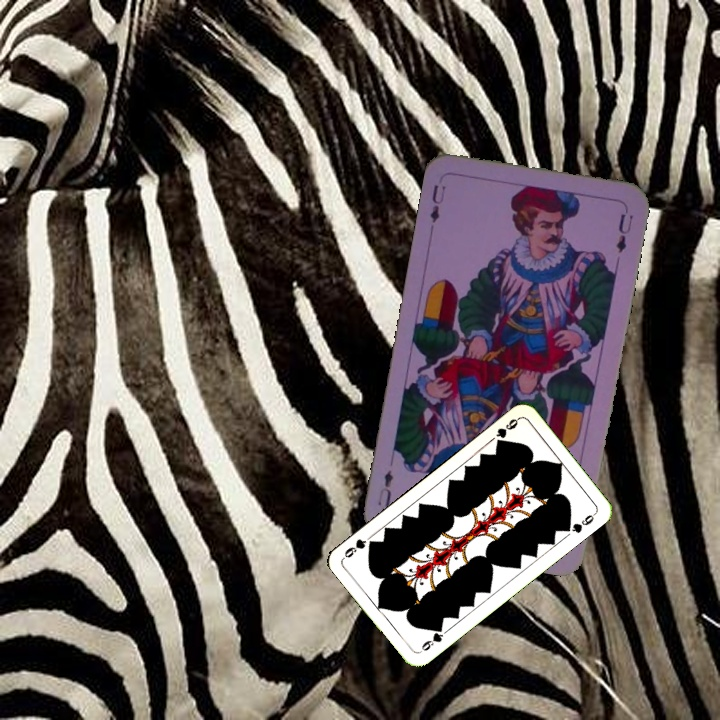EU: (425, 181, 448, 226)
G9: (415, 622, 450, 655), (492, 414, 522, 448)
